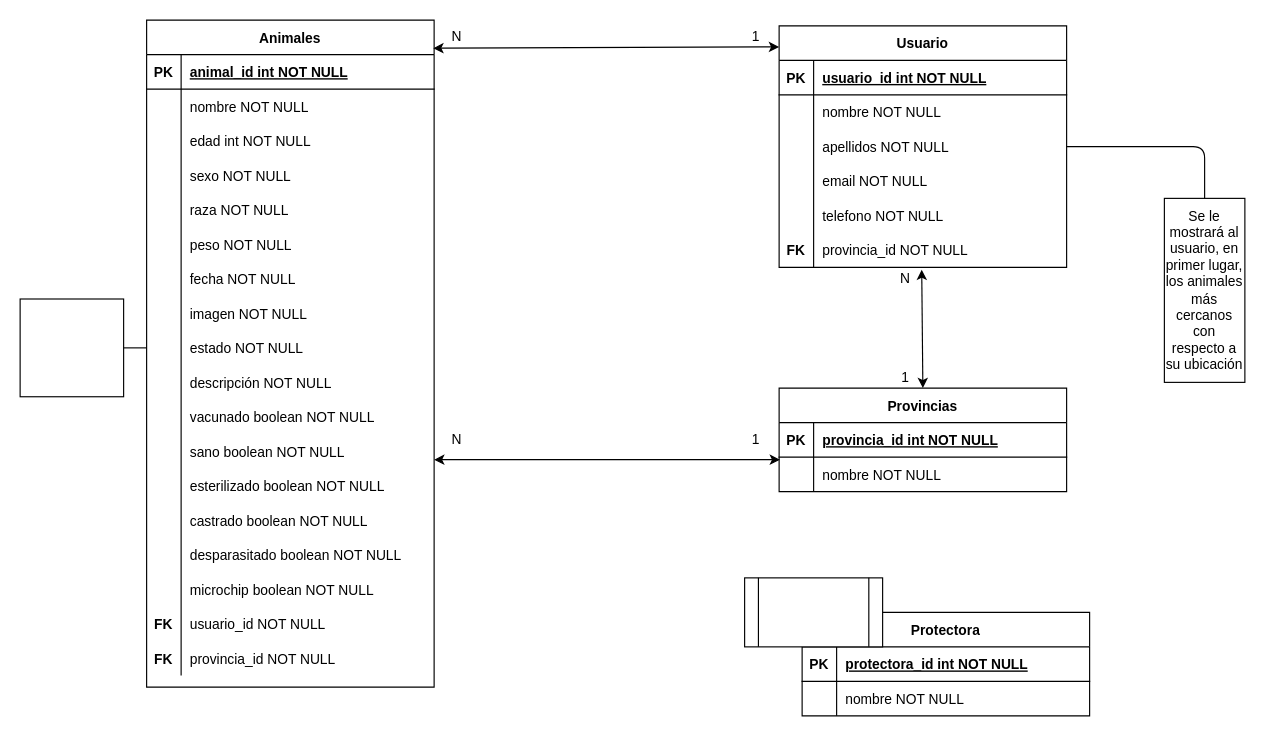
Some shapes in this 1265 by 736 pixel diagram are drawn without their labels. The centre of each missing label's shape, as x and y in pixels:
En acogida, en adopción, urgente o desaparecido: (x=71, y=347)
seguramente se quite del modelo: (x=813, y=612)
